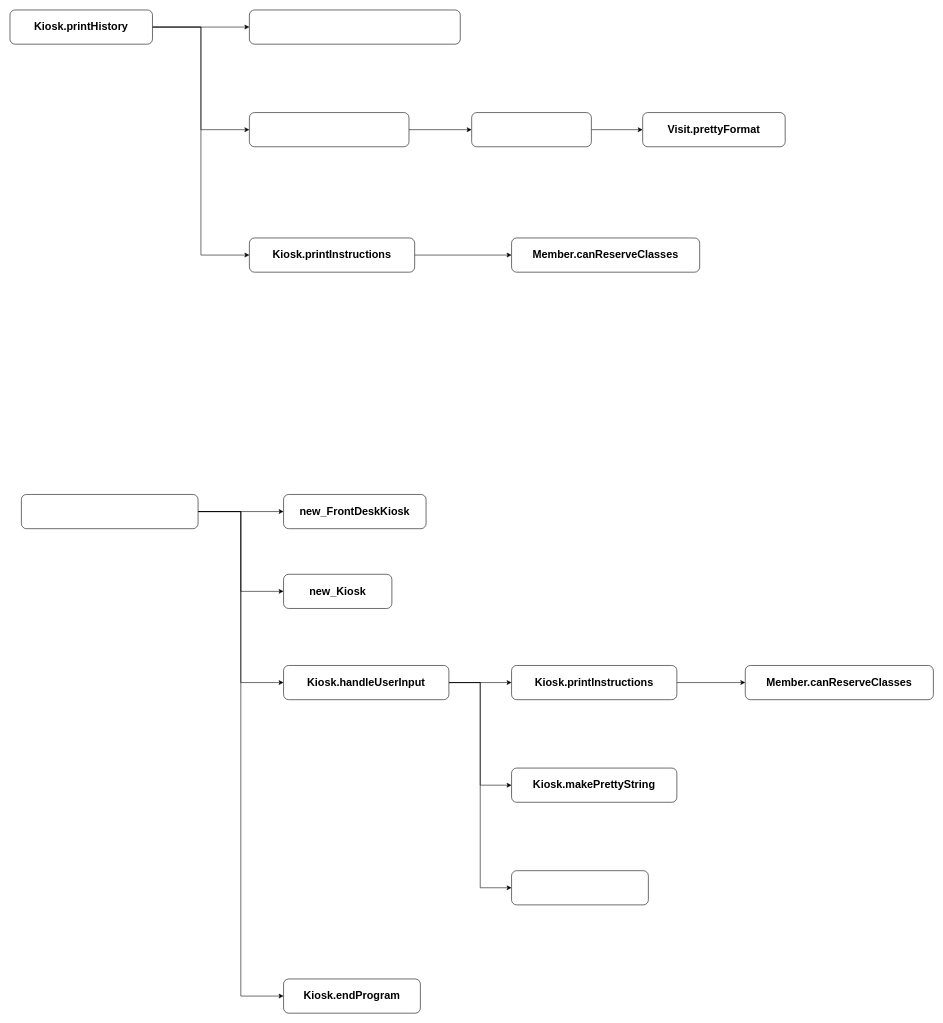
The diagram is 943 pixels wide and 1023 high, and some of its shapes have lost their labels. Here are the shapes that lost their labels. From the top down, the centre of each, then its label:
(354,26): Kiosk.printMemberErrorMessage
(329,129): Member.getVisitHistory
(531,129): Visit.getDate
(109,511): FrontDeskKiosk.main
(579,887): Kiosk.parseInput
